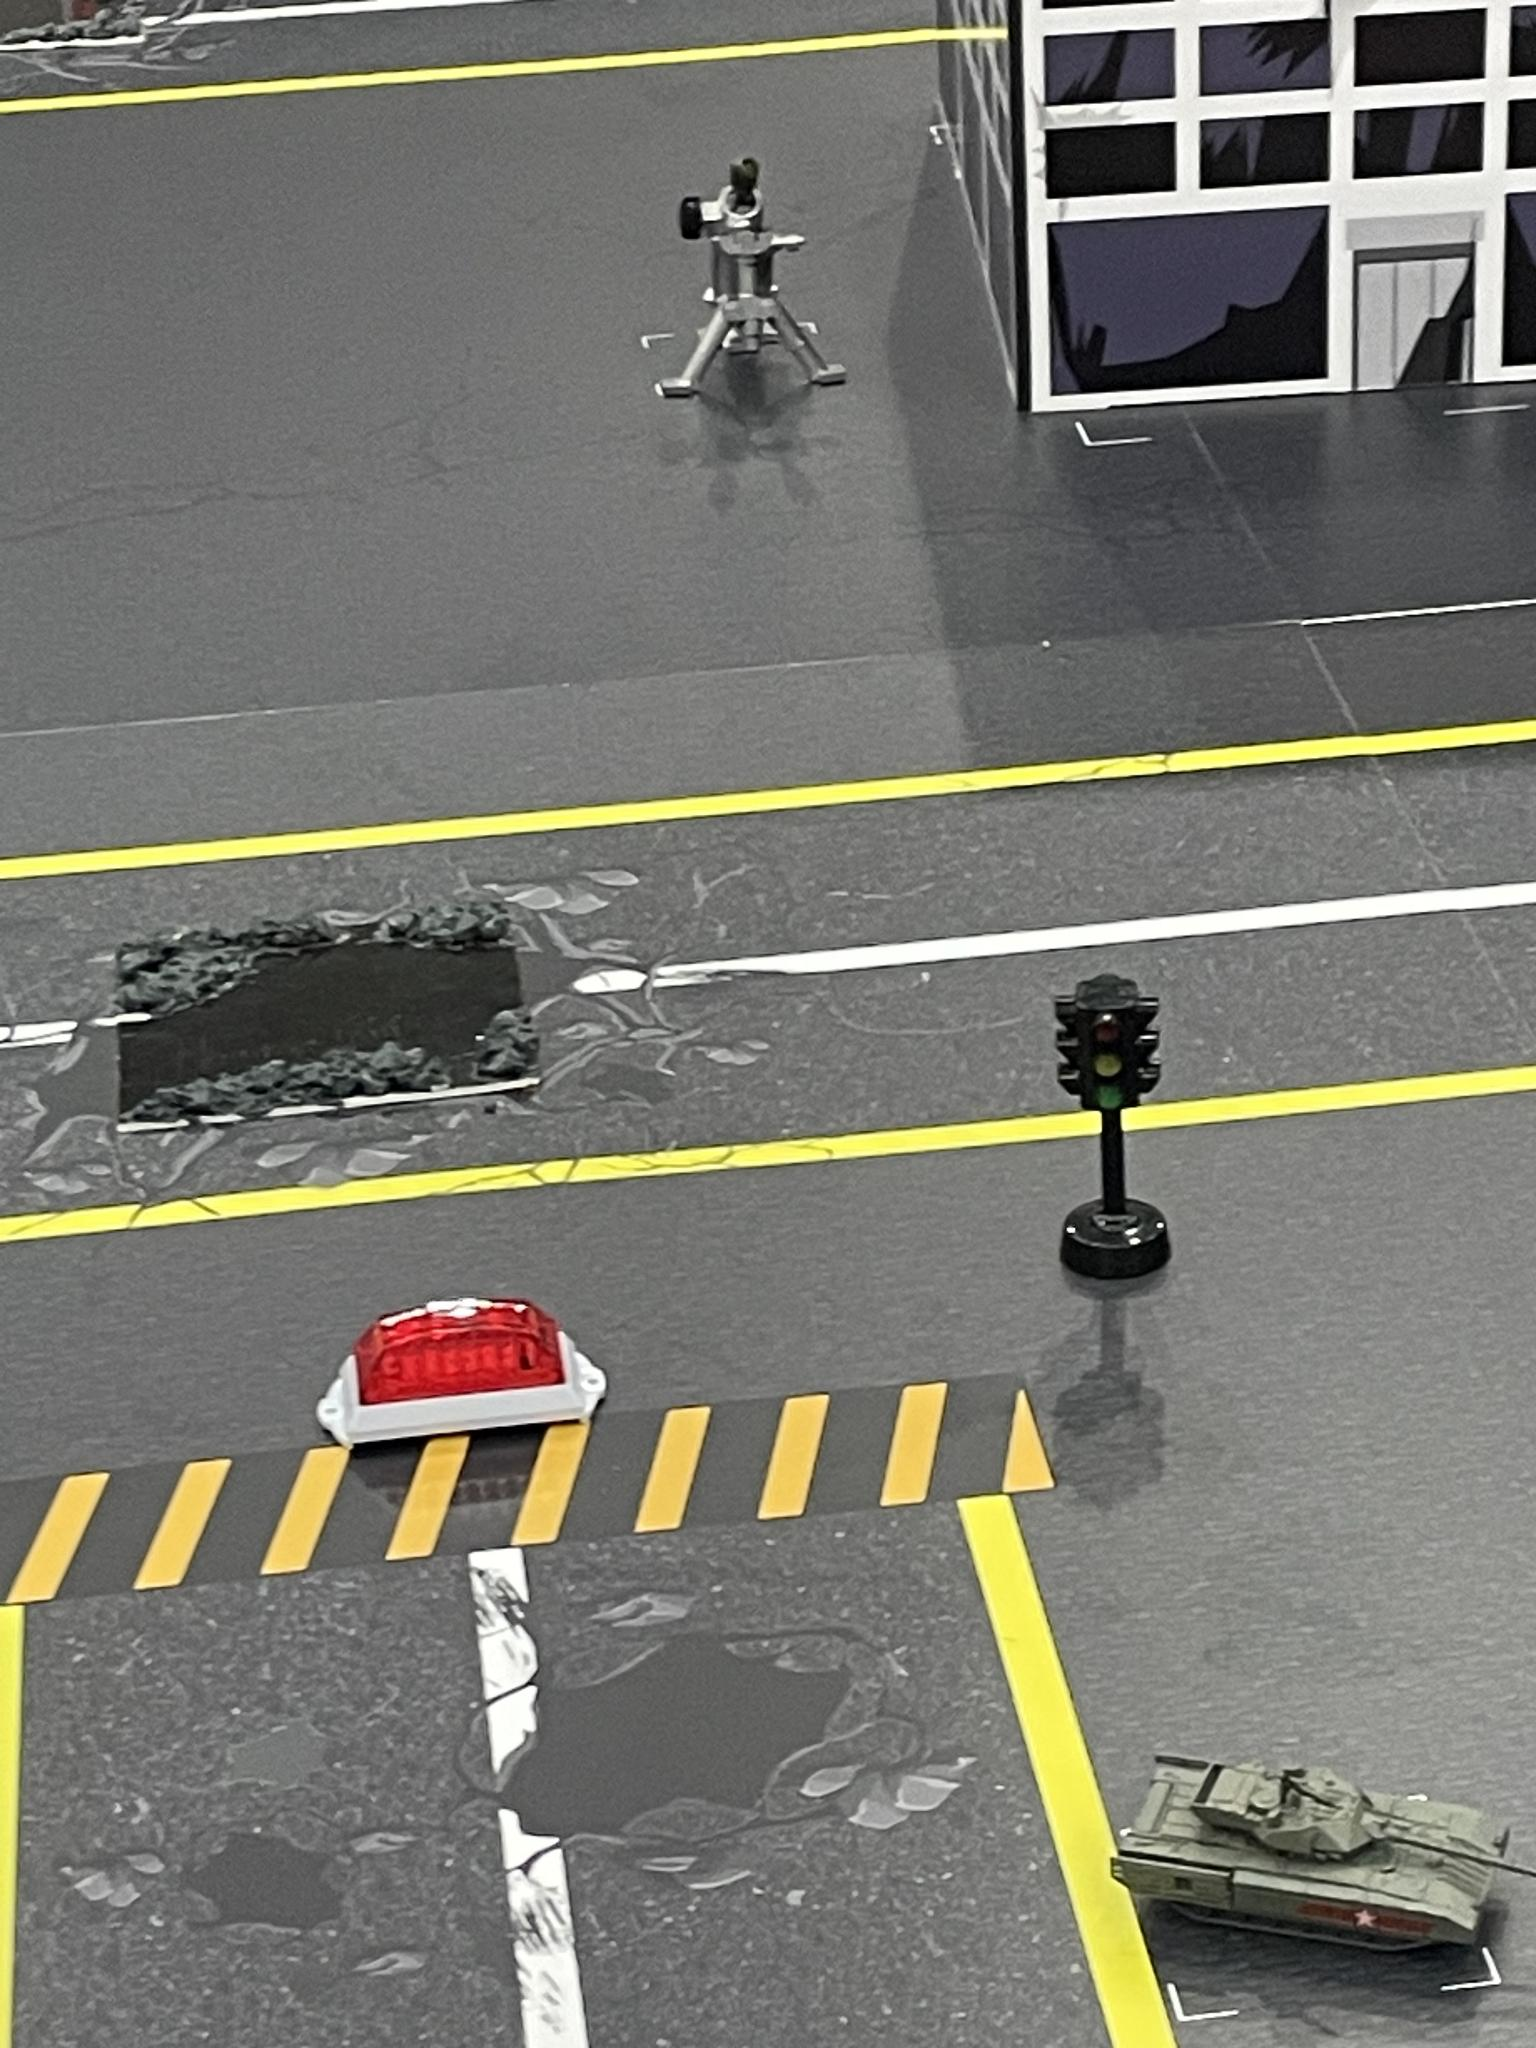Mortar: (658, 155, 866, 410)
Tank: (1102, 1748, 1536, 1966)
